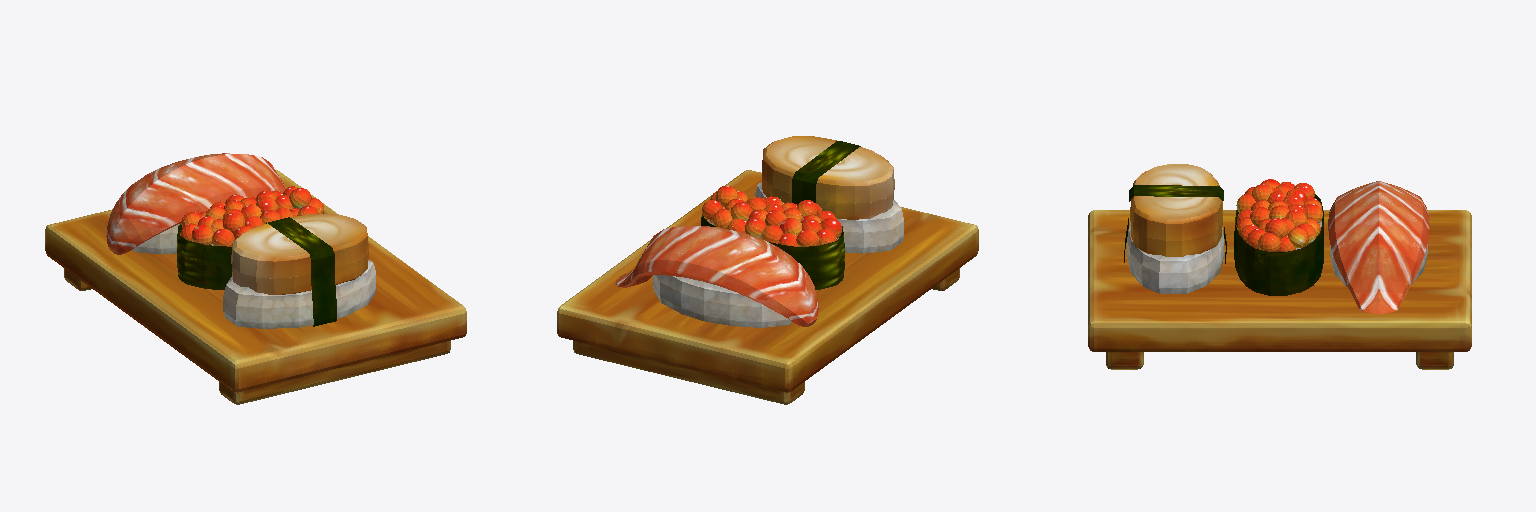
3 renders of one model, left to right at view 1: azimuth 30°, elevation 25°; view 2: azimuth 150°, elevation 25°; view 3: azimuth 270°, elevation 25°, orthographic.
Parts seen in each view (by area): view 1: Plane_0, Plane.011_0, Plane.004_0, Plane.002_0, Plane.007_0, Plane.003_0, Plane.001_0, Plane.005_0; view 2: Plane_0, Plane.011_0, Plane.004_0, Plane.005_0, Plane.007_0, Plane.002_0, Plane.001_0, Plane.003_0; view 3: Plane_0, Plane.011_0, Plane.004_0, Plane.001_0, Plane.002_0, Plane.007_0, Plane.003_0.
Part boxes in pixels (bbox=[...]): Plane_0: bbox=[45, 170, 466, 392]; Plane.011_0: bbox=[106, 153, 285, 254]; Plane.004_0: bbox=[231, 214, 368, 294]; Plane.002_0: bbox=[223, 260, 375, 328]; Plane.007_0: bbox=[64, 268, 450, 404]; Plane.003_0: bbox=[266, 217, 336, 326]; Plane.001_0: bbox=[177, 213, 323, 289]; Plane.005_0: bbox=[132, 224, 179, 254]; Plane_0: bbox=[557, 170, 978, 392]; Plane.011_0: bbox=[615, 226, 818, 326]; Plane.004_0: bbox=[762, 136, 894, 219]; Plane.005_0: bbox=[653, 275, 791, 327]; Plane.007_0: bbox=[573, 268, 959, 404]; Plane.002_0: bbox=[755, 182, 903, 253]; Plane.001_0: bbox=[701, 214, 844, 289]; Plane.003_0: bbox=[792, 141, 860, 204]; Plane_0: bbox=[1088, 210, 1471, 351]; Plane.011_0: bbox=[1328, 181, 1429, 313]; Plane.004_0: bbox=[1130, 164, 1222, 256]; Plane.001_0: bbox=[1234, 194, 1323, 295]; Plane.002_0: bbox=[1127, 221, 1223, 293]; Plane.007_0: bbox=[1106, 352, 1453, 369]; Plane.003_0: bbox=[1124, 185, 1226, 263].
Bounding box in the file's own units: 5.99 × 3.04 × 8.51.
1 materials, 1 textured.